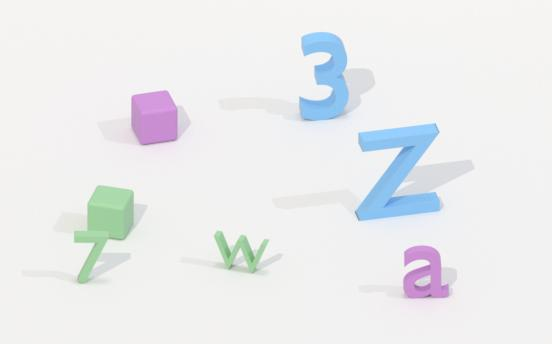3: (294, 33, 355, 122)
7: (70, 228, 115, 284)
a: (400, 243, 451, 301)
hop: (126, 89, 184, 148), (84, 183, 139, 242)
w: (209, 228, 274, 276)
z: (348, 122, 445, 219)
